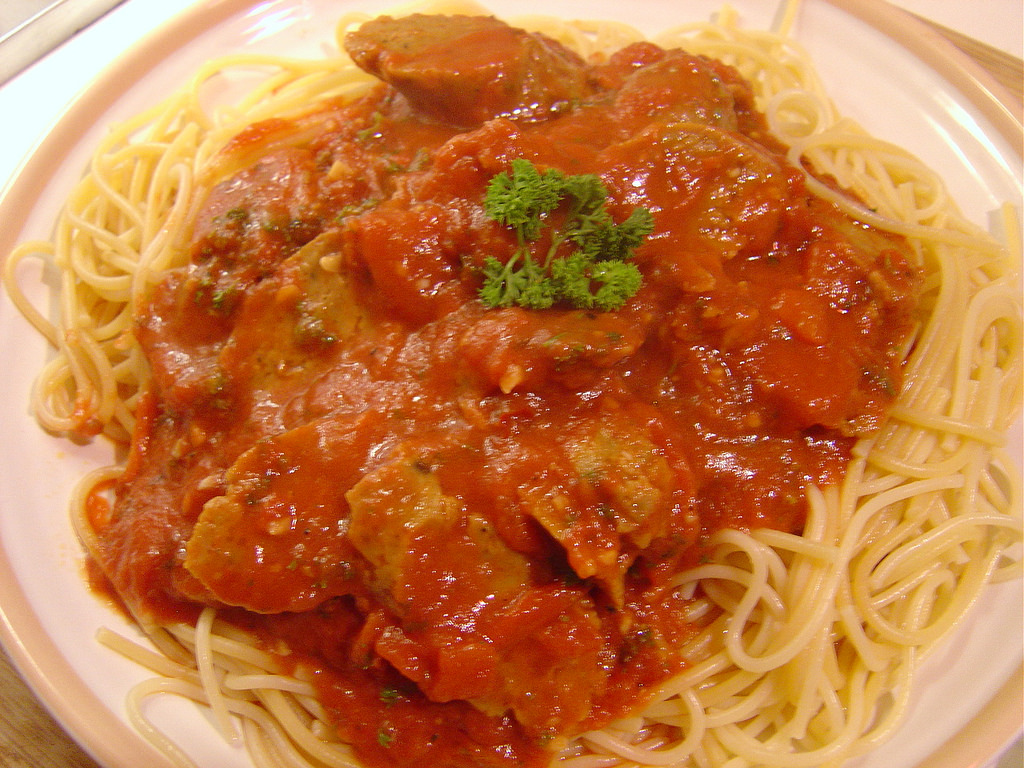plain spaghetti: (35, 18, 1023, 763)
